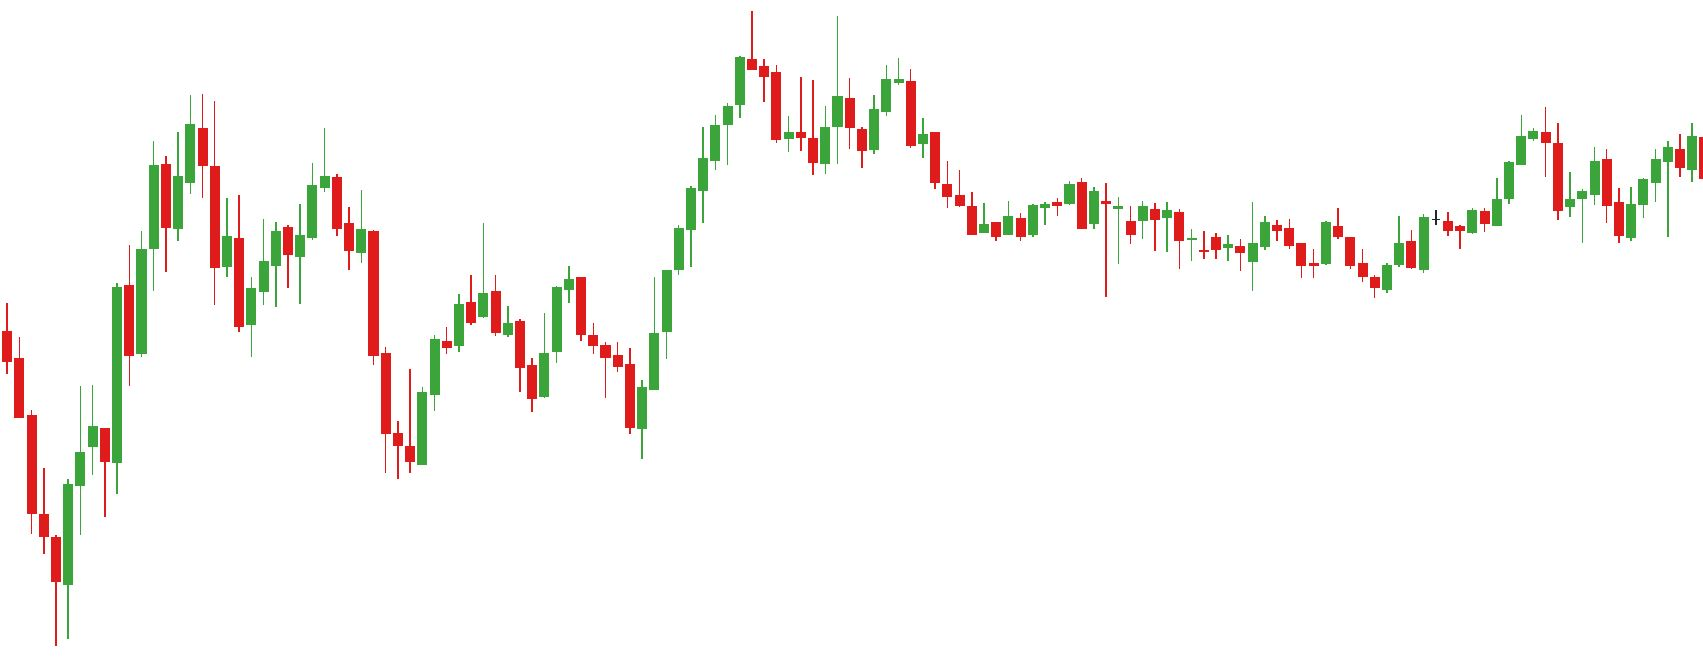buy: (528, 309, 649, 466), (1245, 218, 1393, 301)
